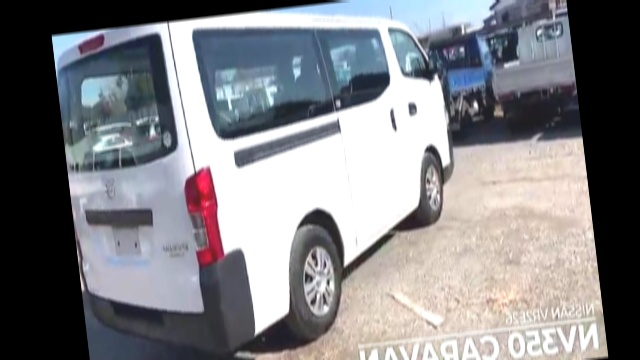van: (51, 0, 464, 349)
